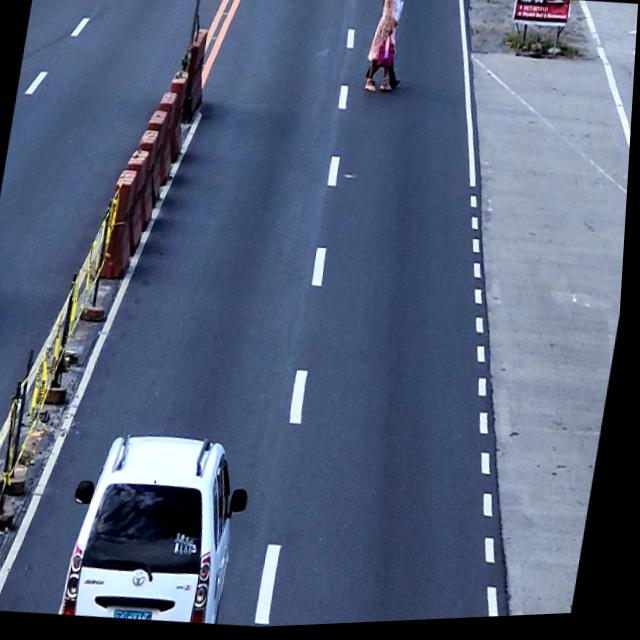Car: (62, 428, 262, 633)
License-Plate: (118, 609, 161, 623)
